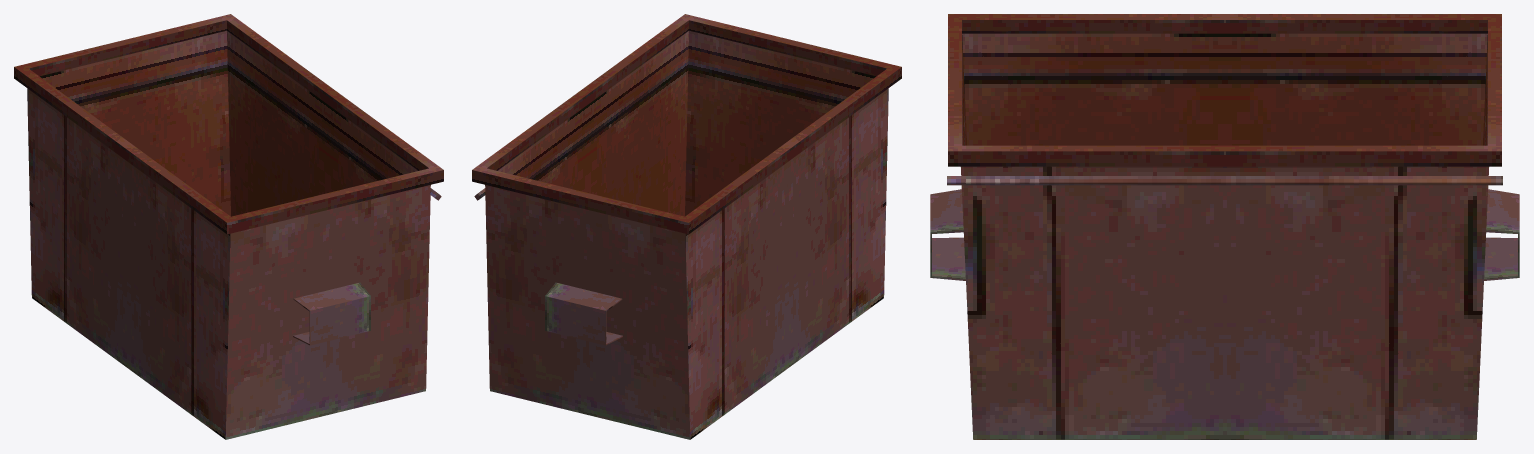
Rendered from dumpster_empty_no_lid_red.glb.
3 renders of one model, left to right at view 1: azimuth 30°, elevation 25°; view 2: azimuth 150°, elevation 25°; view 3: azimuth 270°, elevation 25°, orthographic. The views are drawn at different scales.
Parts seen in each view (by area): view 1: dumpster_empty_no_lid_red; view 2: dumpster_empty_no_lid_red; view 3: dumpster_empty_no_lid_red.
Part boxes in pixels (left/top/right/bottom): dumpster_empty_no_lid_red: left=14, top=14, right=443, bottom=439; dumpster_empty_no_lid_red: left=472, top=14, right=901, bottom=439; dumpster_empty_no_lid_red: left=930, top=14, right=1519, bottom=439.
Size of the model in its own units: 2.03 by 2.02 by 3.67.
Materials: 1 (1 with a texture image).
